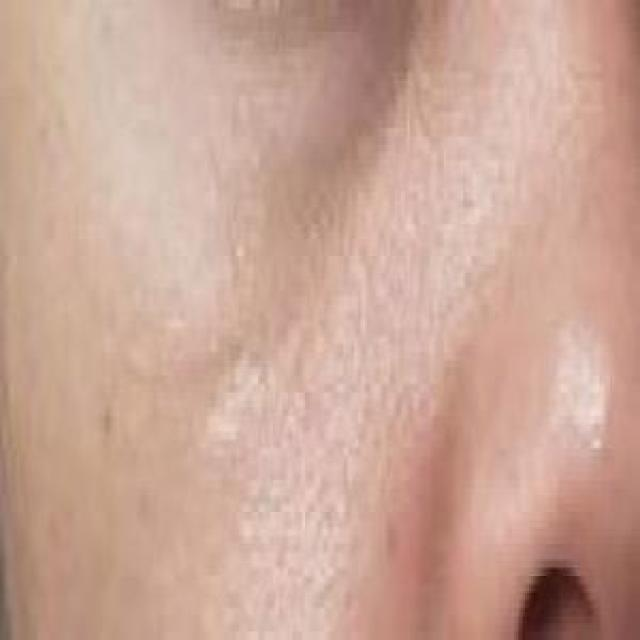Oily-Skin: (429, 245, 640, 587)
